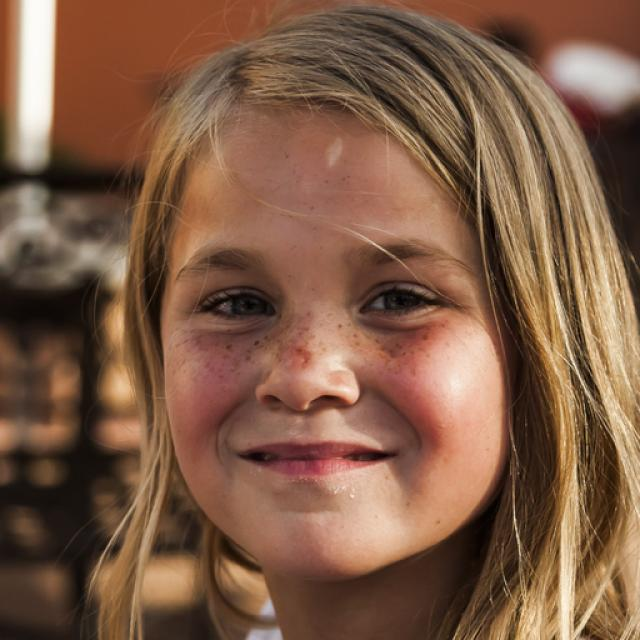Pigmentation: (193, 306, 446, 380)
